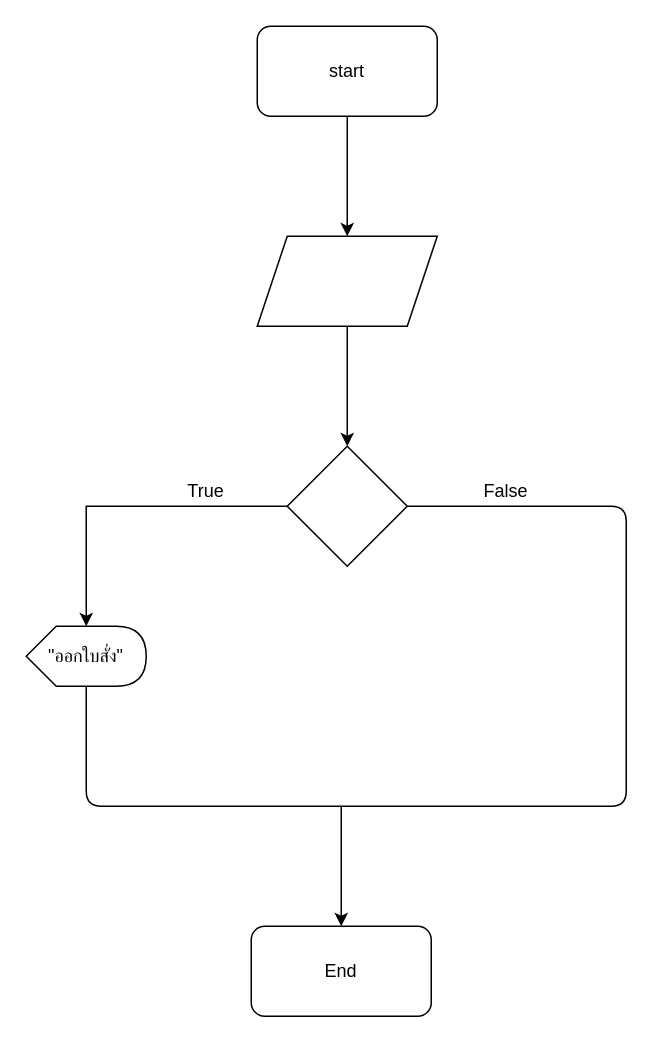
Image size: 654x1043. Some labels were removed from this diagram. Here are the shapes that lost their labels. From the top down, the centre of each, then its label:
At (x=346, y=280): "velocity".
At (x=346, y=505): "velocity > 120".
